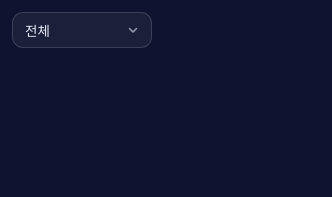
Test: Select › 열어서 마우스로 고른다
The width and height of the screenshot is (332, 197).
Click the button with aria-label "처리 상태 필터" at (82, 30), box [12,12,152,48]
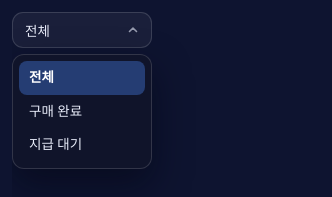
expect the number of options is 3: met
Click the option "지급 대기" at (56, 144), box [29,135,82,153]
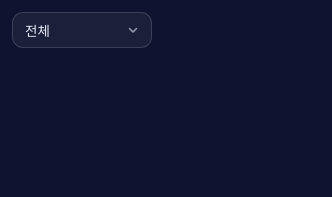
expect the list is gone: met
